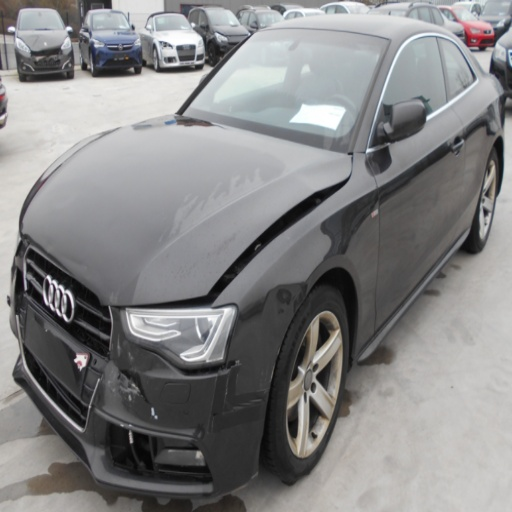dent: (232, 282, 308, 395), (21, 227, 126, 304), (96, 384, 108, 410)
scratch: (107, 370, 141, 404), (258, 341, 280, 392), (116, 331, 122, 354), (127, 353, 133, 371)
